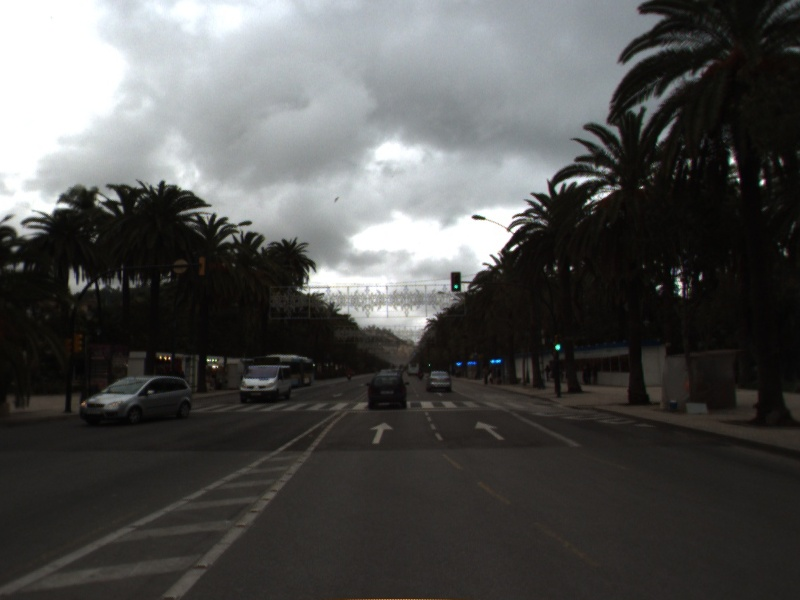STRAIGHT: (472, 419, 508, 442), (367, 420, 396, 445)
